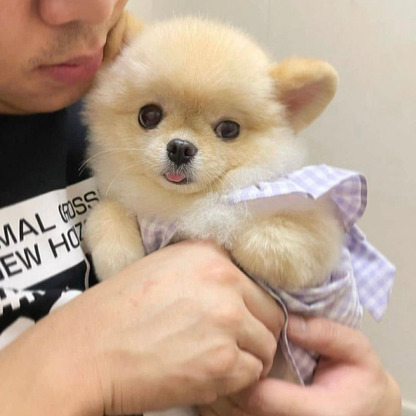Pomeranian: (90, 15, 344, 281)
